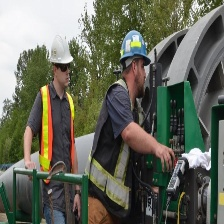helmet: (118, 30, 152, 71), (48, 34, 75, 70)
person: (91, 28, 152, 224), (41, 32, 81, 224)
